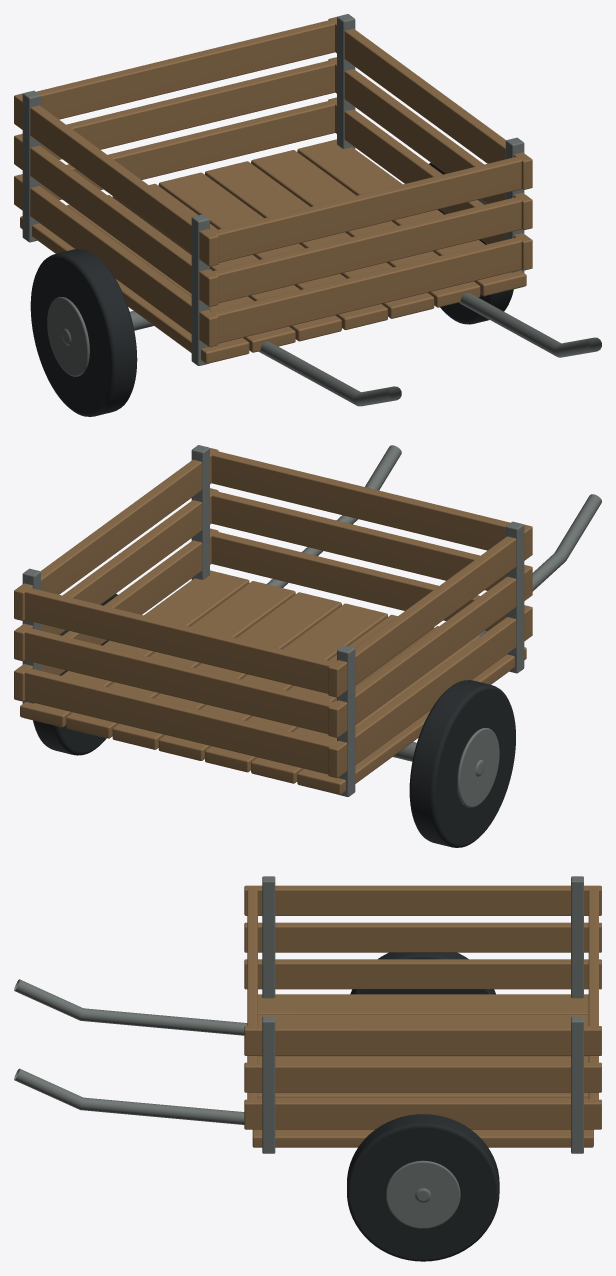
Rendered from market-handcart.glb.
3 views of the same model, one above another, from view 1: azimuth 30°, elevation 25°; view 2: azimuth 150°, elevation 25°; view 3: azimuth 270°, elevation 25° (orthographic). The views are drawn at different scales.
Visible parts, largest first — view 1: Cart wheel, End board, End board.002, End board.001, End board.005, End board.004, End board.003, Side board.002, Side board.001, Side board, Side board.005, Side board.004 (+16 smaller); view 2: Cart wheel, End board.003, End board.004, End board.005, End board.002, End board.001, End board, Side board.001, Side board.002, Side board, Side board.005, Side board.004 (+16 smaller); view 3: Cart wheel.001, Side board.004, Side board.005, Side board.002, Side board, Side board.001, Side board.003, Bed plank, Wheel hub.001, Bed plank.006, Bed plank.001, Tow arm.001 (+11 smaller).
Part boxes in pixels (<box>): Cart wheel: <box>30,249,137,416</box>; End board: <box>212,237,521,343</box>; End board.002: <box>211,156,521,262</box>; End board.001: <box>211,197,521,302</box>; End board.005: <box>36,20,335,119</box>; End board.004: <box>41,60,335,159</box>; End board.003: <box>41,100,335,200</box>; Side board.002: <box>14,93,218,266</box>; Side board.001: <box>14,134,218,306</box>; Side board: <box>14,174,218,347</box>; Side board.005: <box>328,17,532,189</box>; Side board.004: <box>328,57,532,230</box>; Cart wheel: <box>409,680,515,847</box>; End board.003: <box>24,668,334,774</box>; End board.004: <box>25,628,334,734</box>; End board.005: <box>24,587,334,693</box>; End board.002: <box>211,451,510,550</box>; End board.001: <box>211,491,505,590</box>; End board: <box>211,531,505,630</box>; Side board.001: <box>328,565,532,737</box>; Side board.002: <box>328,524,532,697</box>; Side board: <box>328,605,532,778</box>; Side board.005: <box>14,448,218,620</box>; Side board.004: <box>14,488,218,661</box>; Cart wheel.001: <box>347,1114,499,1261</box>; Side board.004: <box>244,1062,601,1092</box>; Side board.005: <box>244,1026,601,1055</box>; Side board.002: <box>244,885,601,915</box>; Side board: <box>244,959,601,989</box>; Side board.001: <box>244,922,601,952</box>; Side board.003: <box>244,1099,601,1129</box>; Bed plank: <box>258,994,588,1014</box>; Wheel hub.001: <box>386,1160,460,1228</box>; Bed plank.006: <box>252,1129,593,1147</box>; Bed plank.001: <box>258,1015,588,1025</box>; Tow arm.001: <box>14,1068,244,1124</box>.
Size of the model in its own units: 2.7 by 1.52 by 3.62.
